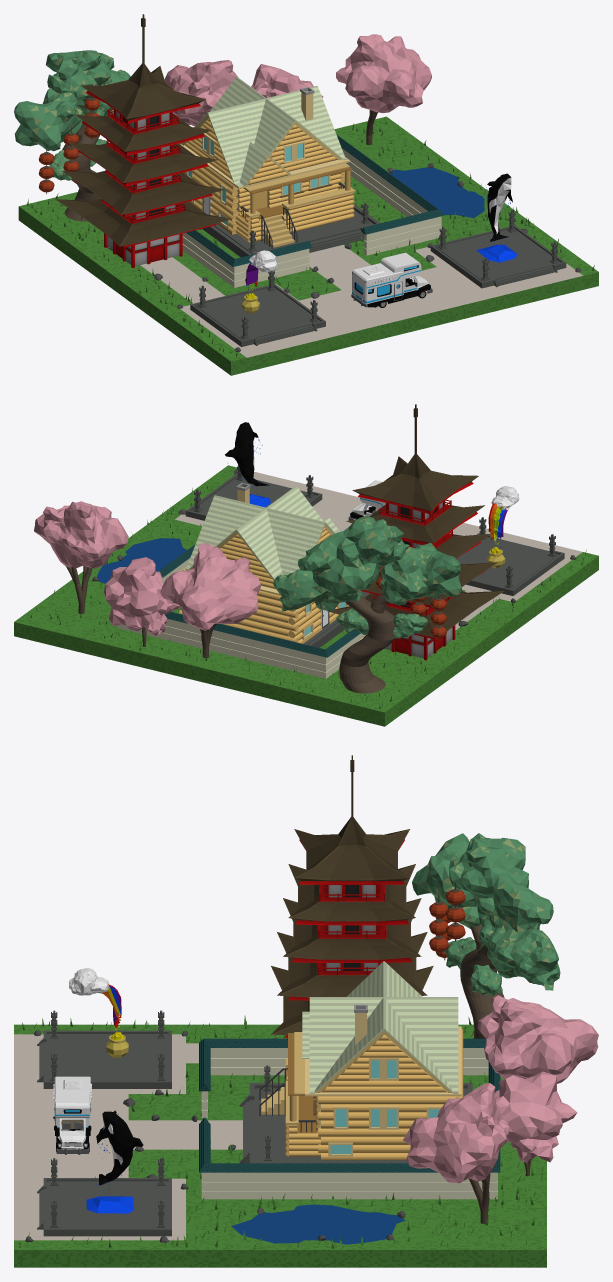
The picture shows the model from 3 angles, top to bottom: view 1: azimuth 30°, elevation 25°; view 2: azimuth 150°, elevation 25°; view 3: azimuth 270°, elevation 25°; orthographic projection. The views are drawn at different scales.
Visible parts, largest first — view 1: Cube.005, Cube.1516, VEHICLES_CAMPER, ANIMAL_ORCA, OBJRANDOM_RAINBOW; view 2: Cube.005, Cube.1516, ANIMAL_ORCA, OBJRANDOM_RAINBOW, VEHICLES_CAMPER; view 3: Cube.005, Cube.1516, VEHICLES_CAMPER, ANIMAL_ORCA, OBJRANDOM_RAINBOW.
Boxes of the visible parts, bbox=[...] form: Cube.005: bbox=[14, 14, 598, 375]; Cube.1516: bbox=[179, 77, 355, 248]; VEHICLES_CAMPER: bbox=[351, 252, 432, 307]; ANIMAL_ORCA: bbox=[476, 173, 516, 262]; OBJRANDOM_RAINBOW: bbox=[241, 250, 277, 313]; Cube.005: bbox=[14, 404, 598, 726]; Cube.1516: bbox=[178, 482, 360, 643]; ANIMAL_ORCA: bbox=[225, 422, 270, 507]; OBJRANDOM_RAINBOW: bbox=[486, 486, 519, 568]; VEHICLES_CAMPER: bbox=[348, 480, 385, 520]; Cube.005: bbox=[14, 755, 598, 1267]; Cube.1516: bbox=[259, 961, 463, 1159]; VEHICLES_CAMPER: bbox=[53, 1076, 91, 1154]; ANIMAL_ORCA: bbox=[86, 1110, 143, 1213]; OBJRANDOM_RAINBOW: bbox=[69, 968, 128, 1057].
Bounding box in the file's own units: 4528 × 2842 × 4389.
Materials: 47 (6 with a texture image).
